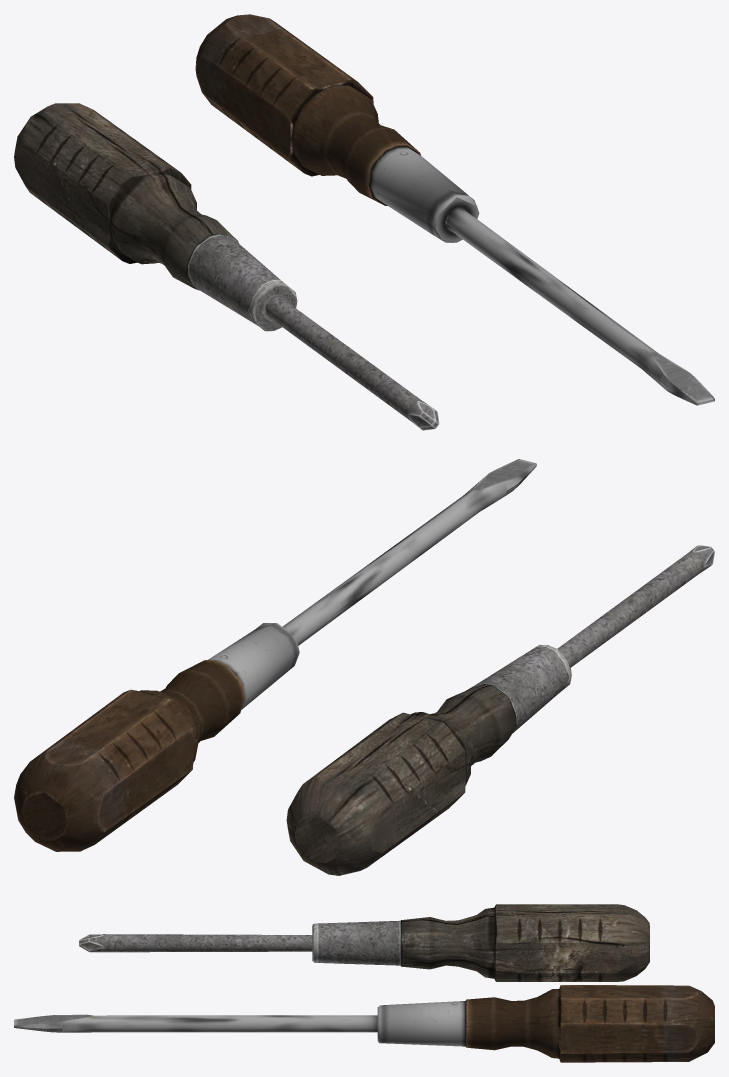
The model's file is screwdrivers_02.glb.
3 views of the same model, one above another, from view 1: azimuth 30°, elevation 25°; view 2: azimuth 150°, elevation 25°; view 3: azimuth 270°, elevation 25° (orthographic). The views are drawn at different scales.
Visible parts, largest first — view 1: screwdrivers_02_a, screwdrivers_02_b; view 2: screwdrivers_02_a, screwdrivers_02_b; view 3: screwdrivers_02_a, screwdrivers_02_b.
Part boxes in pixels (<box>): screwdrivers_02_a: <box>195,14,714,405</box>; screwdrivers_02_b: <box>14,103,439,430</box>; screwdrivers_02_a: <box>14,459,536,851</box>; screwdrivers_02_b: <box>286,545,714,875</box>; screwdrivers_02_a: <box>14,985,714,1062</box>; screwdrivers_02_b: <box>79,904,649,981</box>.
Bounding box in the file's own units: 0.1005 × 0.0271 × 0.2699.
1 material, 1 textured.
